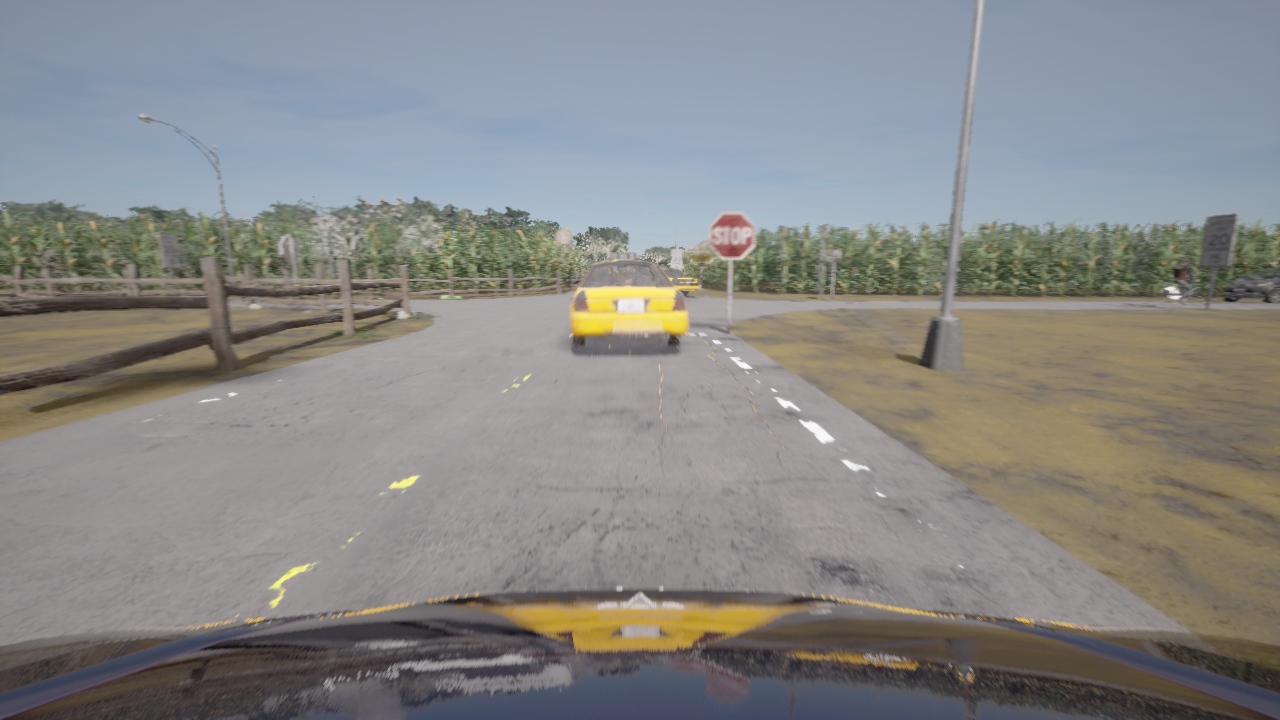cyclist: (0, 588, 1279, 719), (571, 252, 687, 347), (1222, 268, 1279, 303), (1160, 279, 1207, 305), (660, 266, 699, 296)
